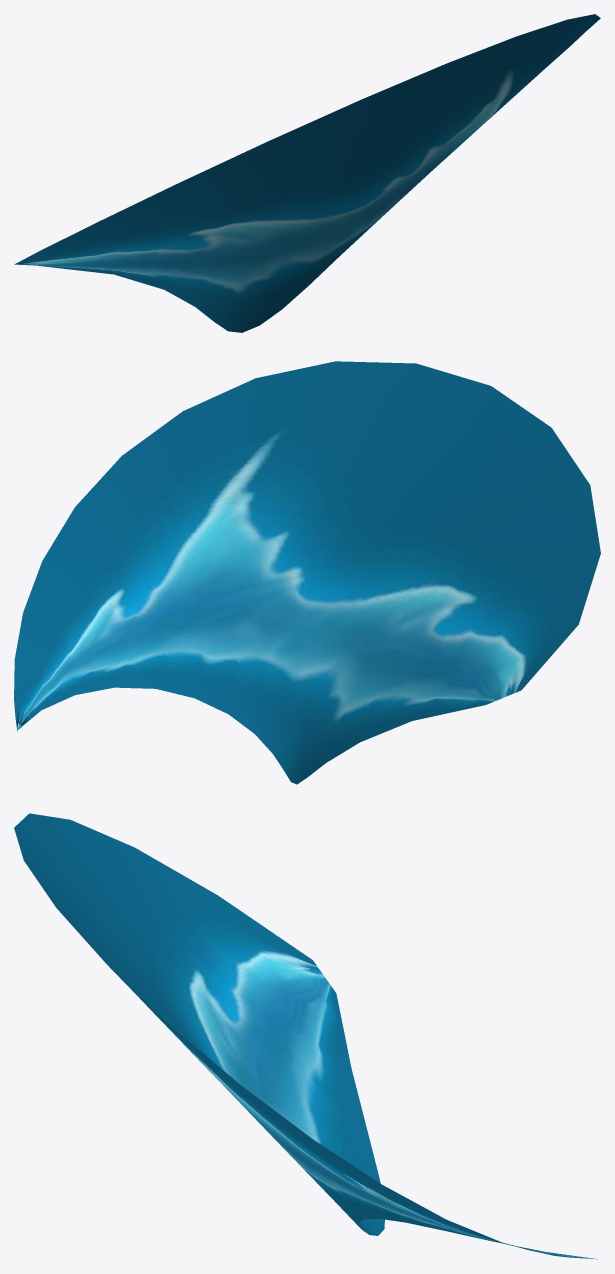
Rendered from 0140_S_FX_qinglong_fx.glb.
The picture shows the model from 3 angles, top to bottom: view 1: azimuth 30°, elevation 25°; view 2: azimuth 150°, elevation 25°; view 3: azimuth 270°, elevation 25°; orthographic projection. The views are drawn at different scales.
Bounding box in the file's own units: 2.2 × 1.39 × 1.91.
Materials: 1 (1 with a texture image).
